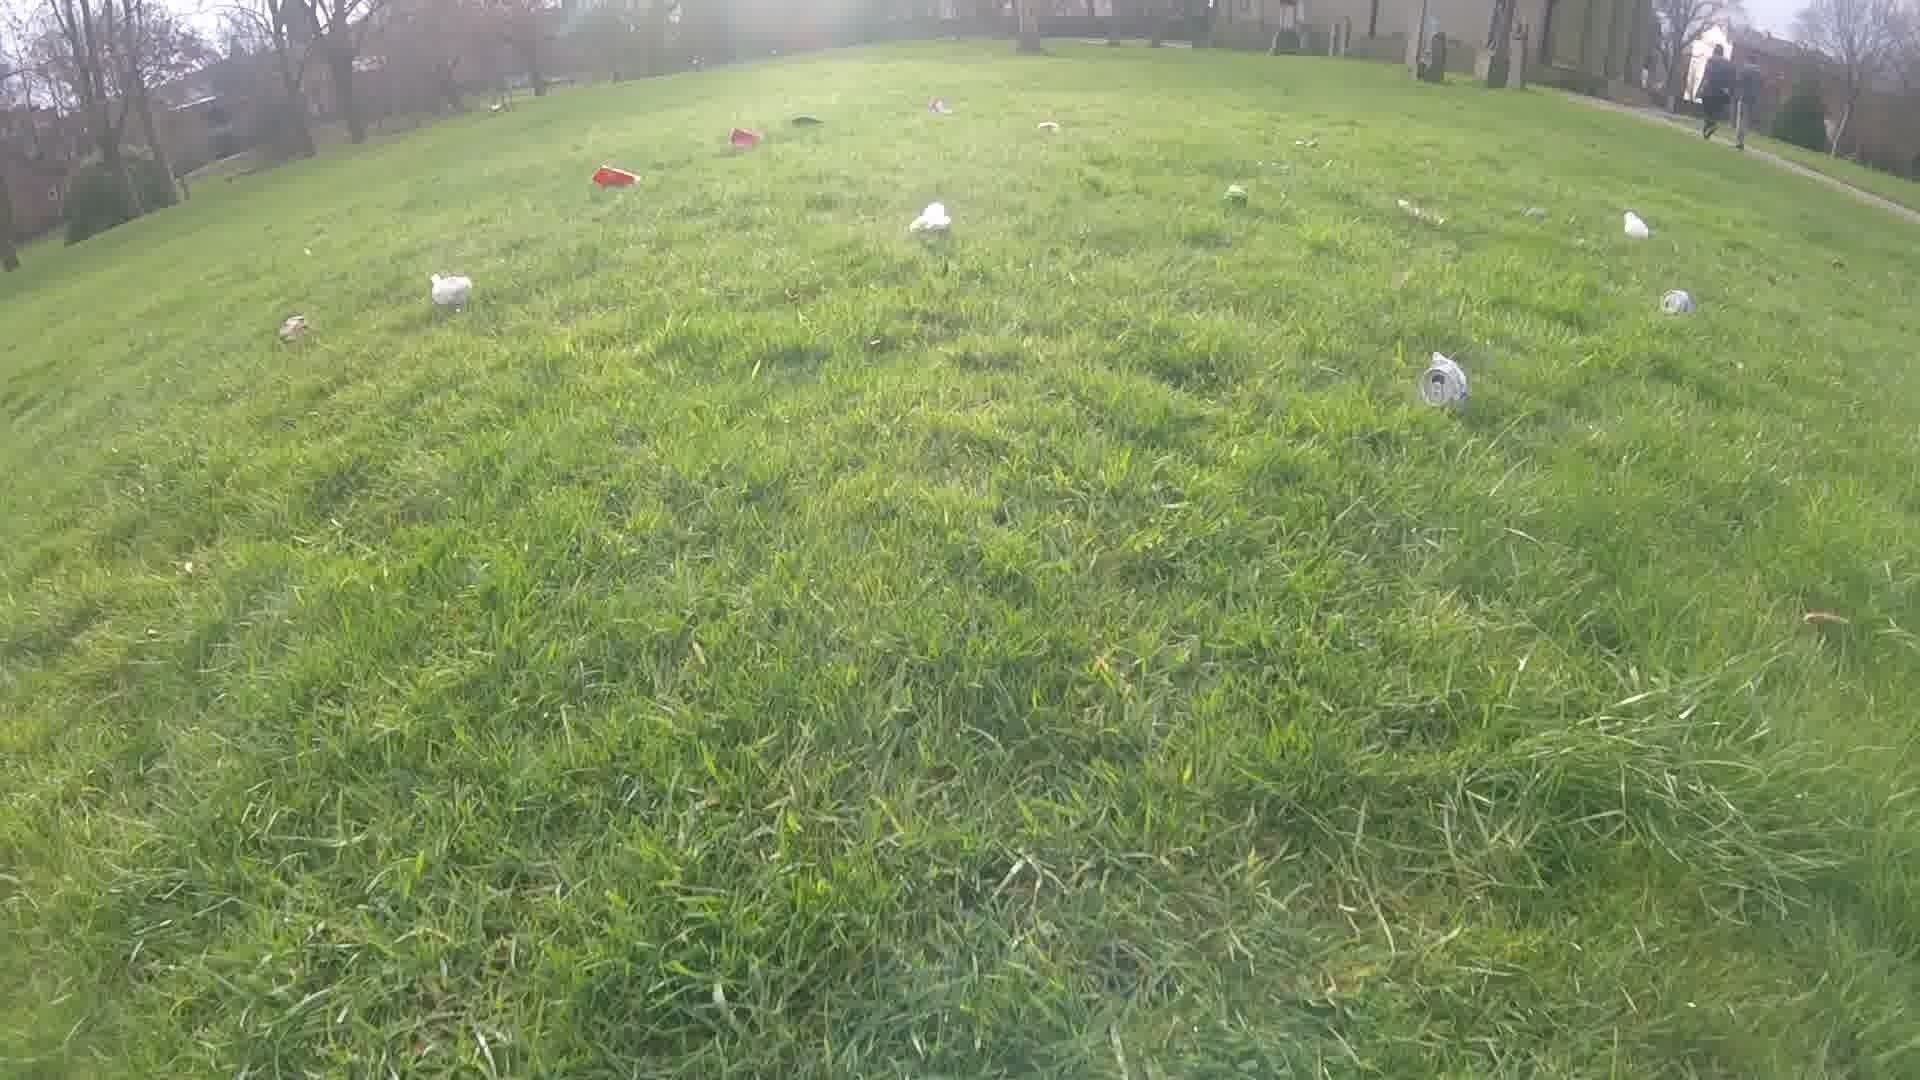litter: (1422, 359, 1468, 409), (427, 278, 473, 306), (1619, 214, 1655, 243), (589, 167, 640, 187), (915, 208, 948, 235), (725, 131, 760, 156), (1664, 293, 1693, 320), (1395, 204, 1441, 220), (280, 316, 306, 343), (785, 113, 823, 127), (1029, 121, 1064, 135), (1225, 187, 1251, 204), (928, 102, 960, 113), (1522, 204, 1545, 218), (1292, 138, 1317, 149)
